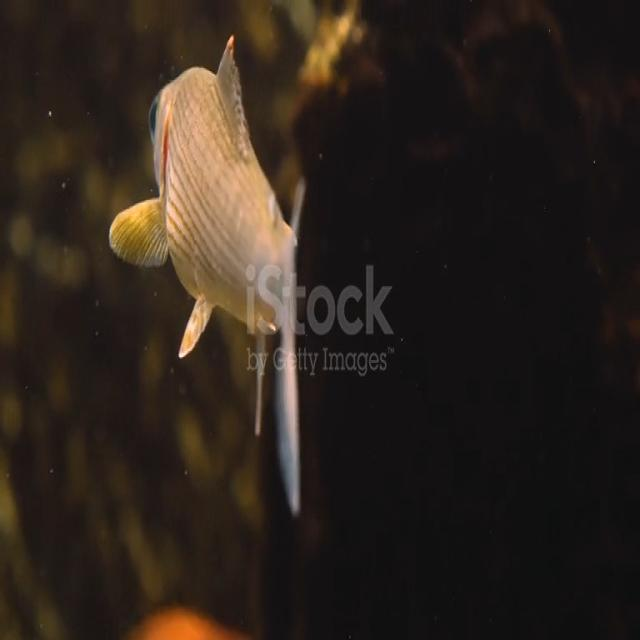fish: (106, 34, 317, 536)
